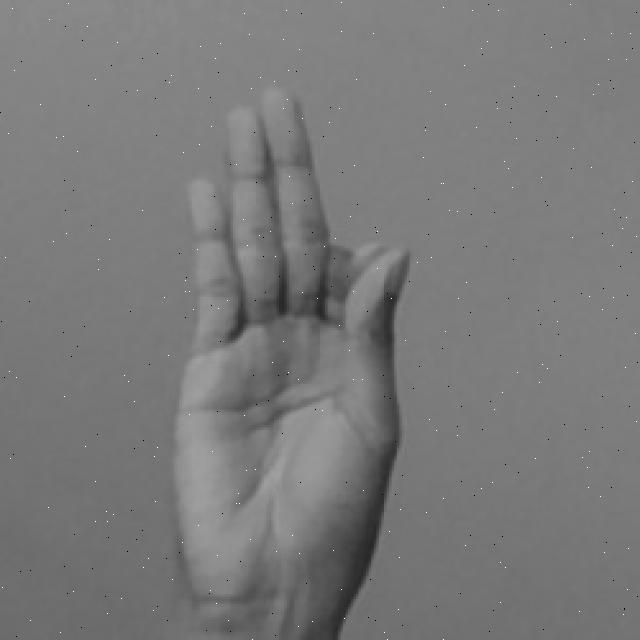F: (172, 84, 415, 640)
